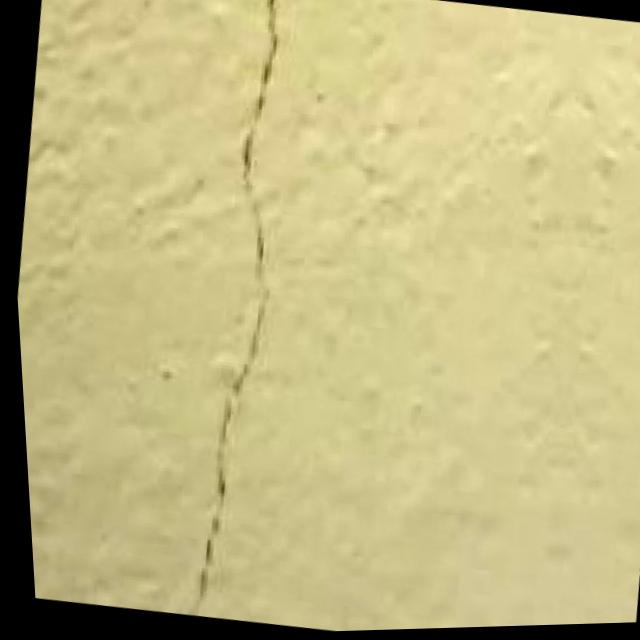Crack: (119, 0, 366, 630)
